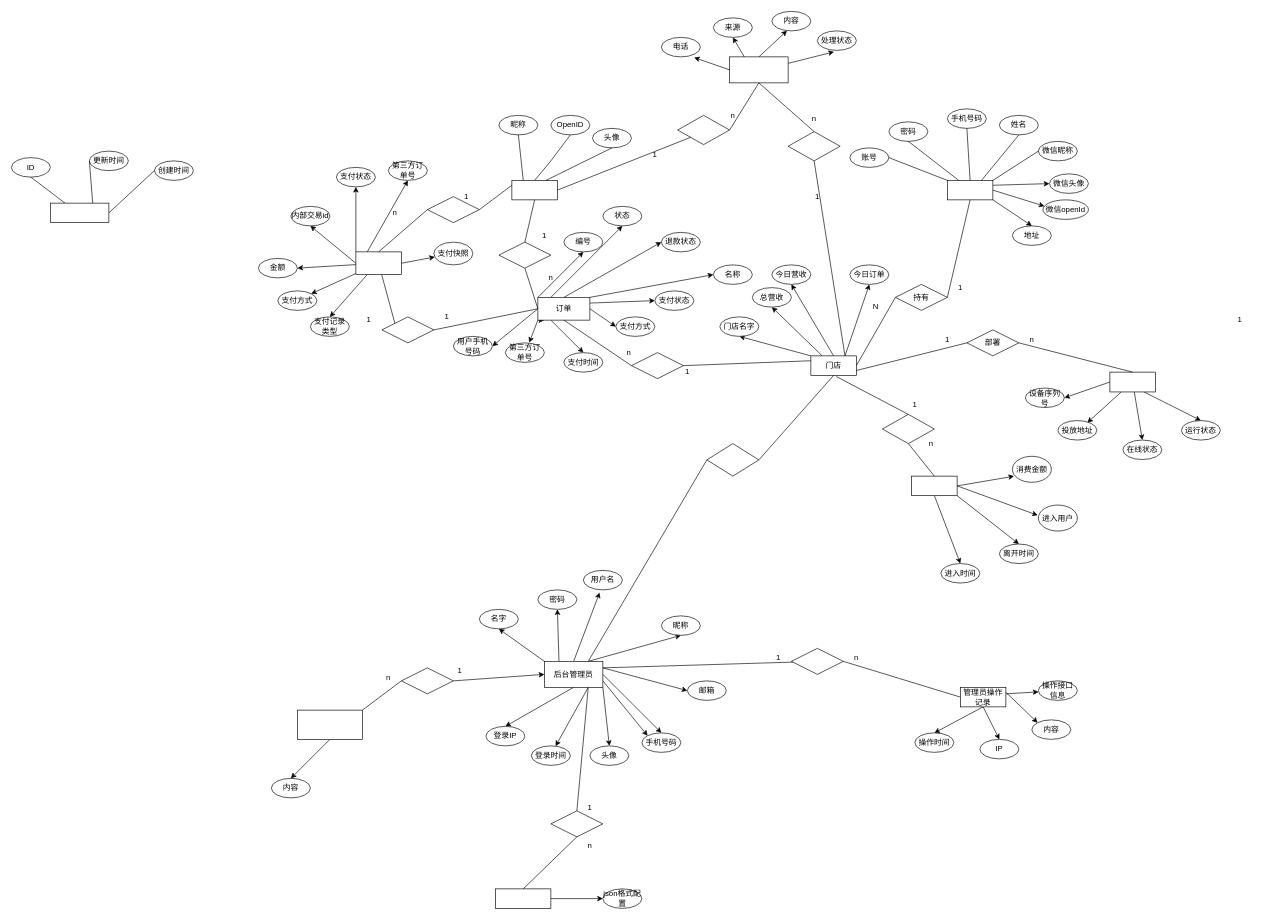
The diagram is 1271 pixels wide and 920 high, and some of its shapes have lost their labels. The shapes that lost their labels are listed below. From the top down, each one's box as (x1, y1, x2, y2) in pixels, then its label:
(729, 56, 788, 83): 用户反馈信息
(511, 180, 557, 200): 微信小程序用户
(947, 180, 993, 200): 商家
(50, 202, 109, 223): 实体公共字段
(355, 251, 401, 275): 支付信息
(498, 241, 551, 268): 支付
(631, 352, 683, 379): 销售商品
(1109, 371, 1155, 392): 设备
(706, 443, 759, 476): 监控
(911, 475, 957, 496): 进出门店记录
(401, 667, 453, 694): 发布
(297, 709, 362, 739): 公告
(550, 810, 603, 837): 写入
(495, 888, 551, 908): 配置信息
